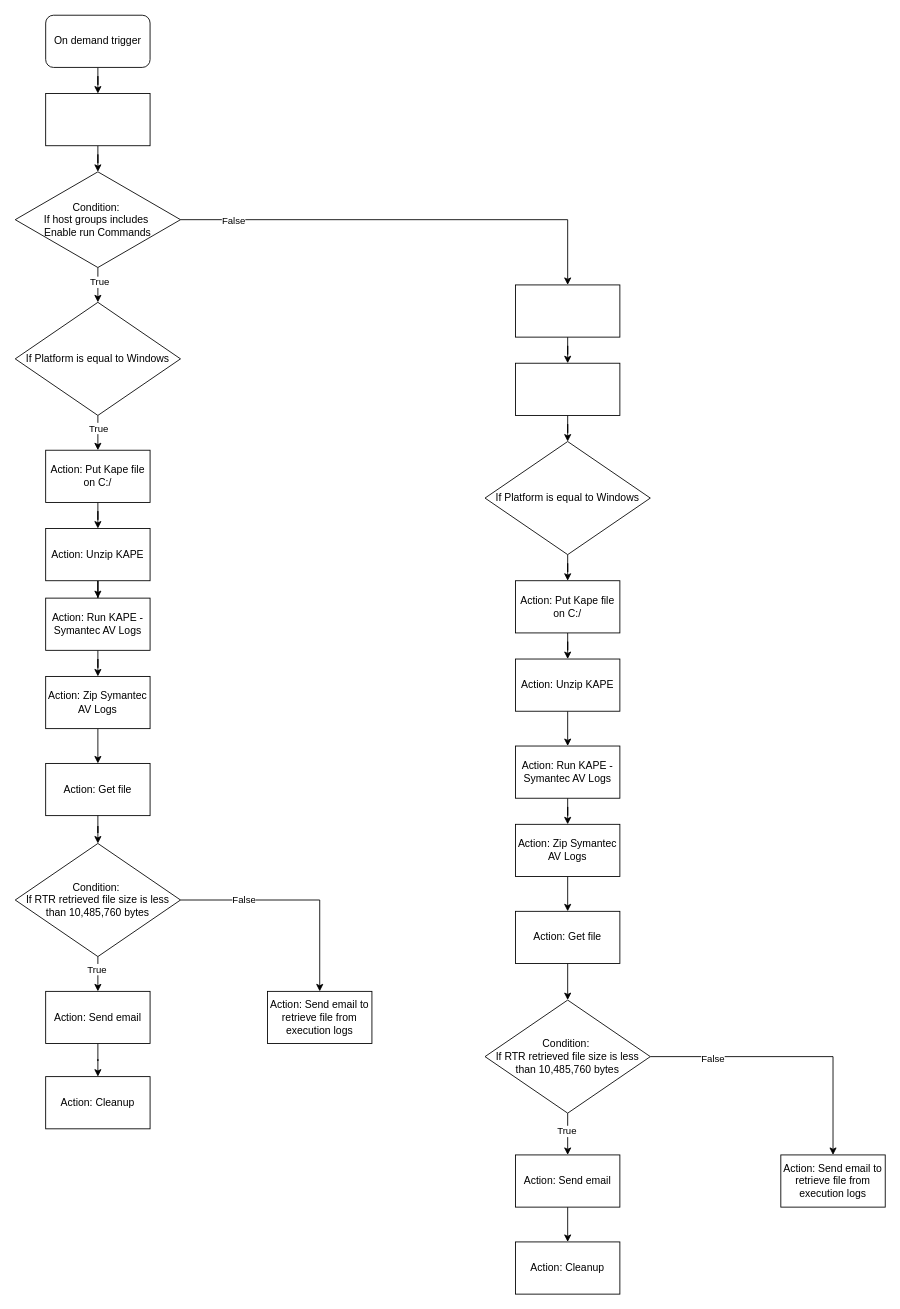
This 900x1309 diagram has some shape labels left out. Here are the shapes that lost their labels. From the top down, the box of each, then its label:
(45, 93, 150, 146): Action: Get Device details
(515, 284, 620, 337): Add host to host group
(515, 362, 620, 415): Sleep - 30 minutes
